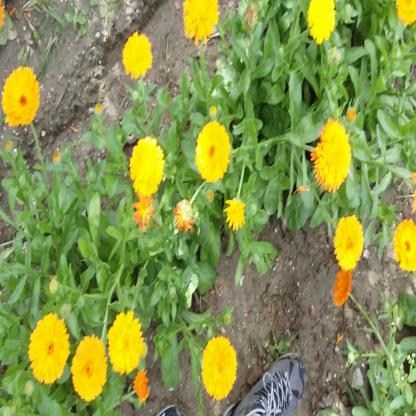marigold: (28, 314, 68, 385), (314, 123, 350, 189), (70, 336, 106, 400), (3, 65, 38, 125), (202, 337, 235, 399), (106, 315, 140, 373), (131, 138, 164, 191), (198, 123, 228, 181), (182, 0, 219, 39), (337, 217, 363, 270), (393, 217, 415, 270), (308, 0, 335, 42), (122, 35, 149, 76), (224, 198, 245, 233)
